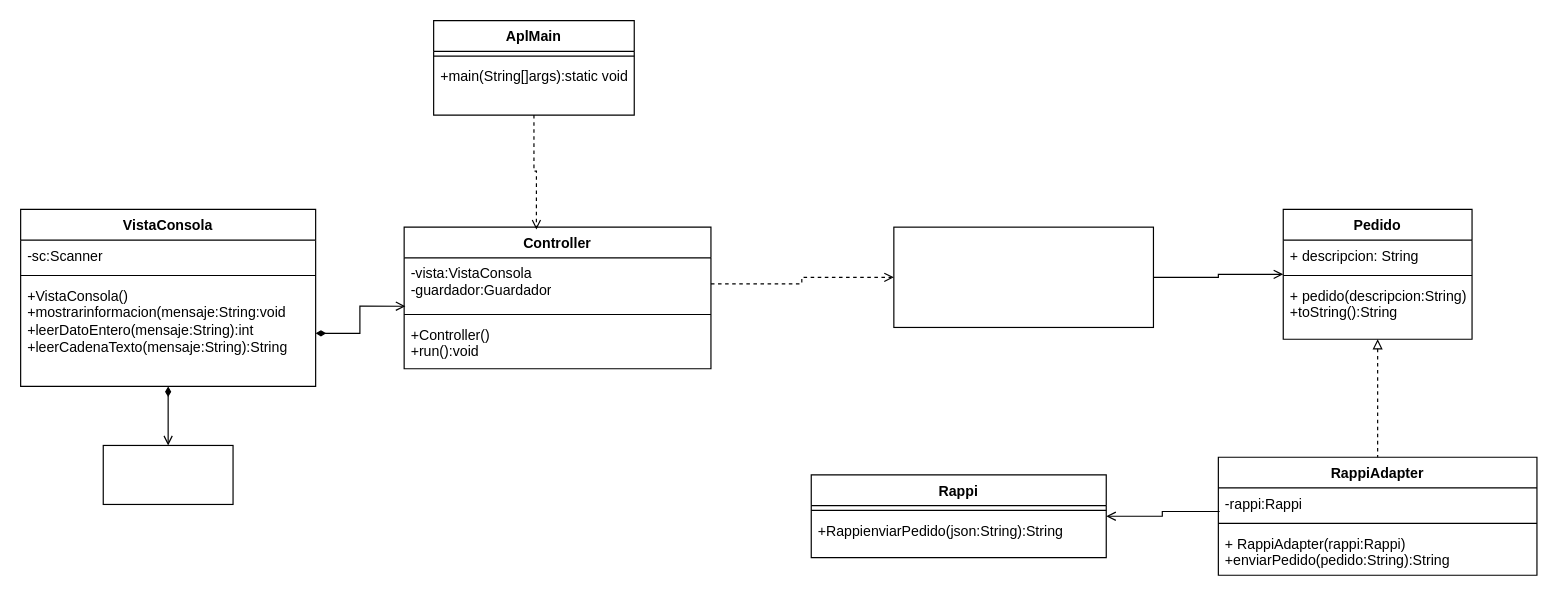
The diagram is 1558 pixels wide and 599 high, and some of its shapes have lost their labels. Here are the shapes that lost their labels. From the top down, the centre of each, then its label:
At pixel 1023 276: "<<Interface>> ProcesadorPedido + enviarPedido(pedido:String): String".
At pixel 167 474: "<<primitive>> Scanner".
